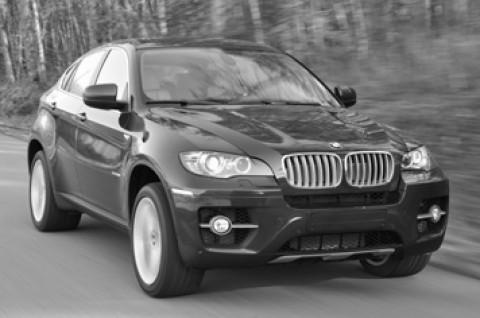car: (22, 34, 455, 304)
